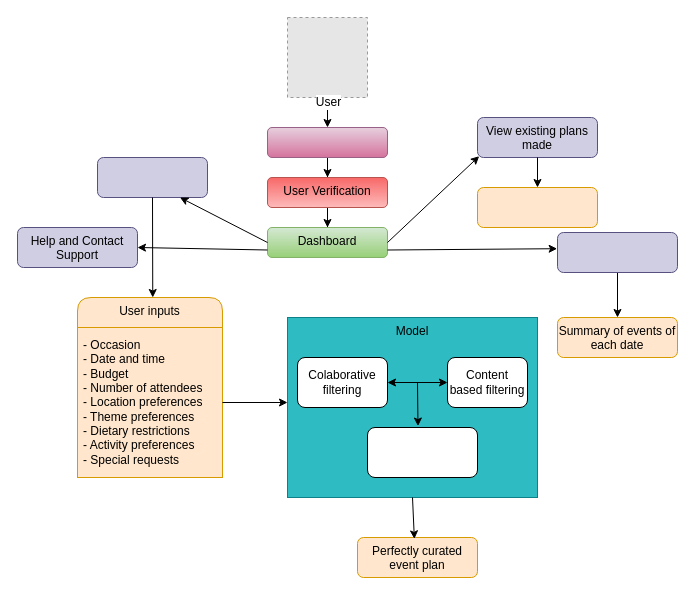
Some shapes in this 695 by 595 pixel diagram are drawn without their labels. Grey dashed boxes stand in for pictures. Here are the shapes that lost their labels. From the top down, the box of each, then its label:
(266, 126, 388, 158): Sign in authentication
(96, 156, 208, 198): Create an event plan
(476, 186, 598, 228): Modifications for the event
(556, 232, 678, 272): Personalised event calendar
(366, 426, 478, 478): Ensembled hybrid model
